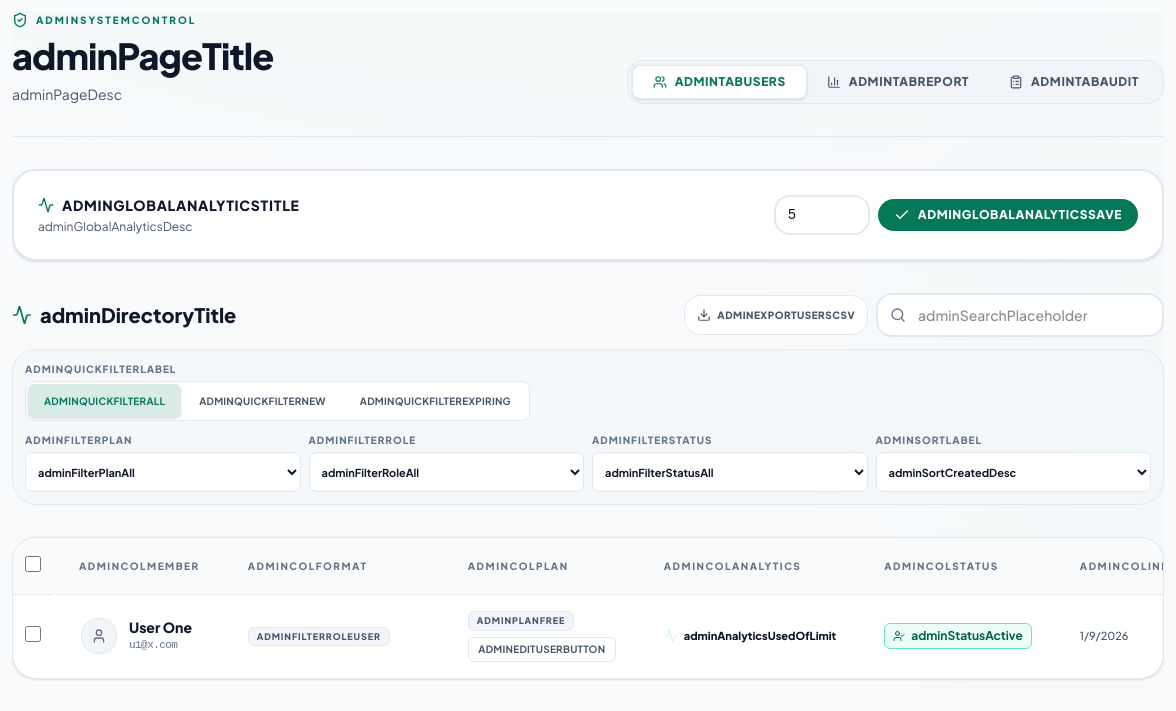
Test case: AdminView › surfaces each active filter as a chip and clears them all at once
Select "adminFilterPlanFree" in the dropdown labelled "adminFilterPlan" at {"x": 163, "y": 472}, box left=25, top=452, right=300, bottom=492
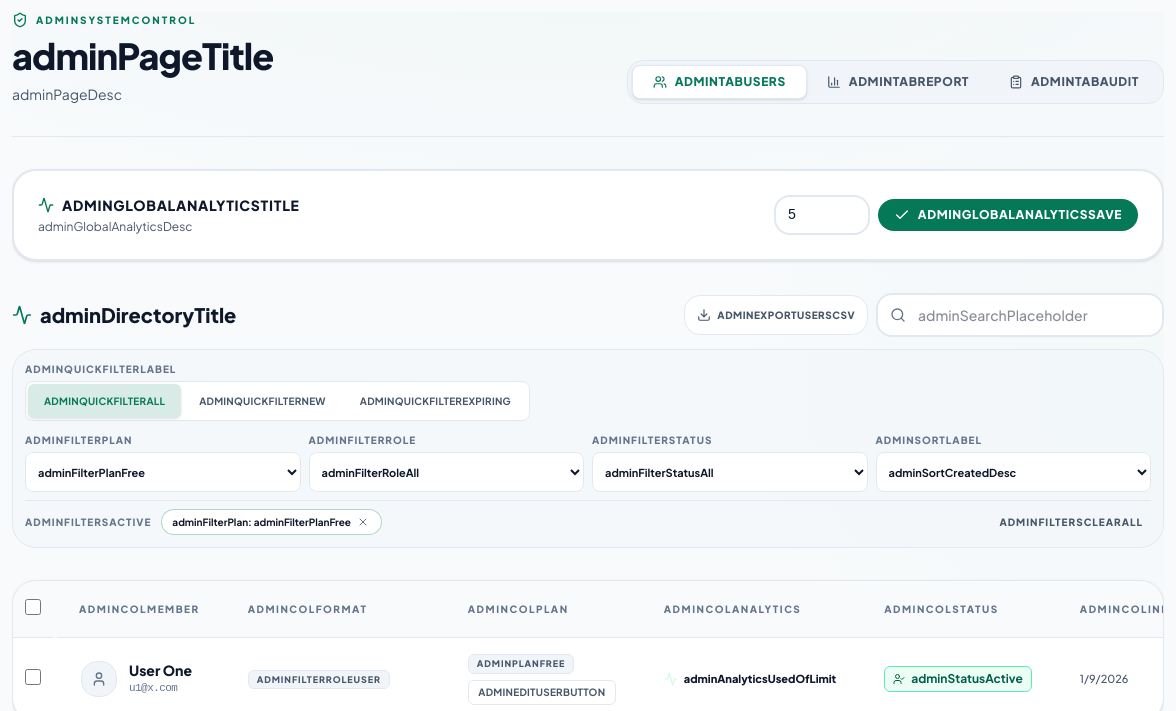
Now the text "adminFilterPlan: adminFilterPlanFree" is shown, box left=161, top=509, right=382, bottom=535
Select "adminFilterRoleAdmin" in the dropdown labelled "adminFilterRole" at {"x": 446, "y": 472}, box left=308, top=452, right=584, bottom=492
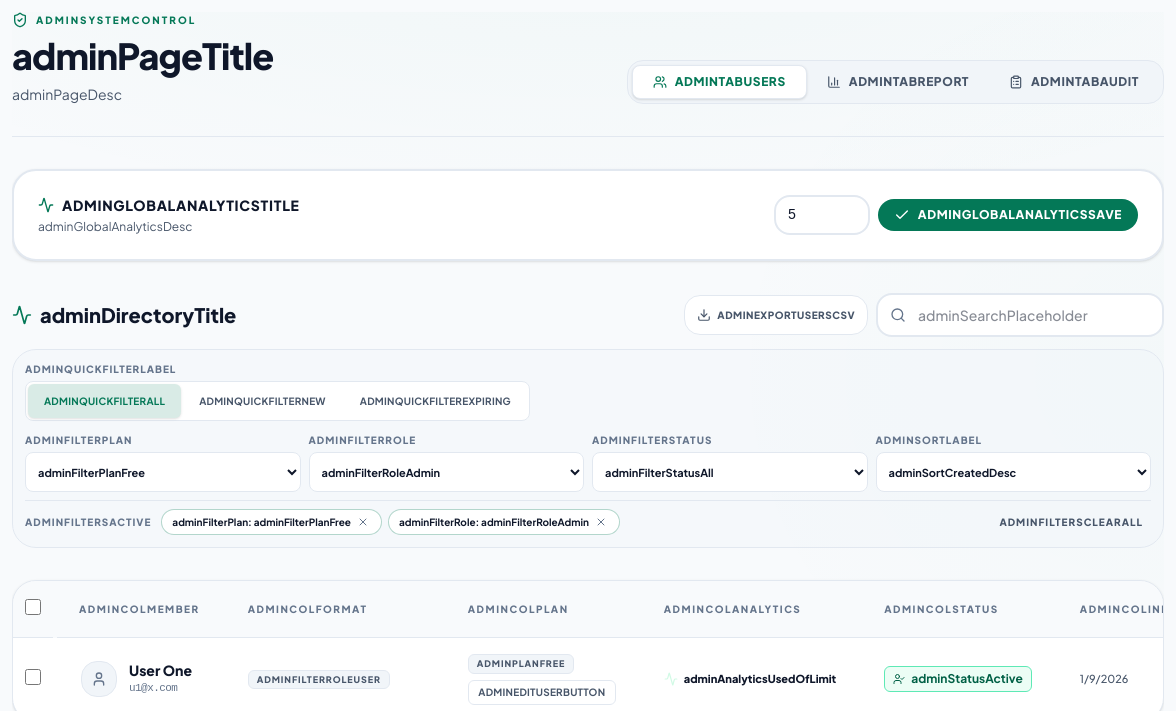
Now the text "adminFilterRole: adminFilterRoleAdmin" is shown, box left=388, top=509, right=620, bottom=535
Click the button "adminFiltersClearAll" at {"x": 1071, "y": 522}, box left=991, top=510, right=1151, bottom=534
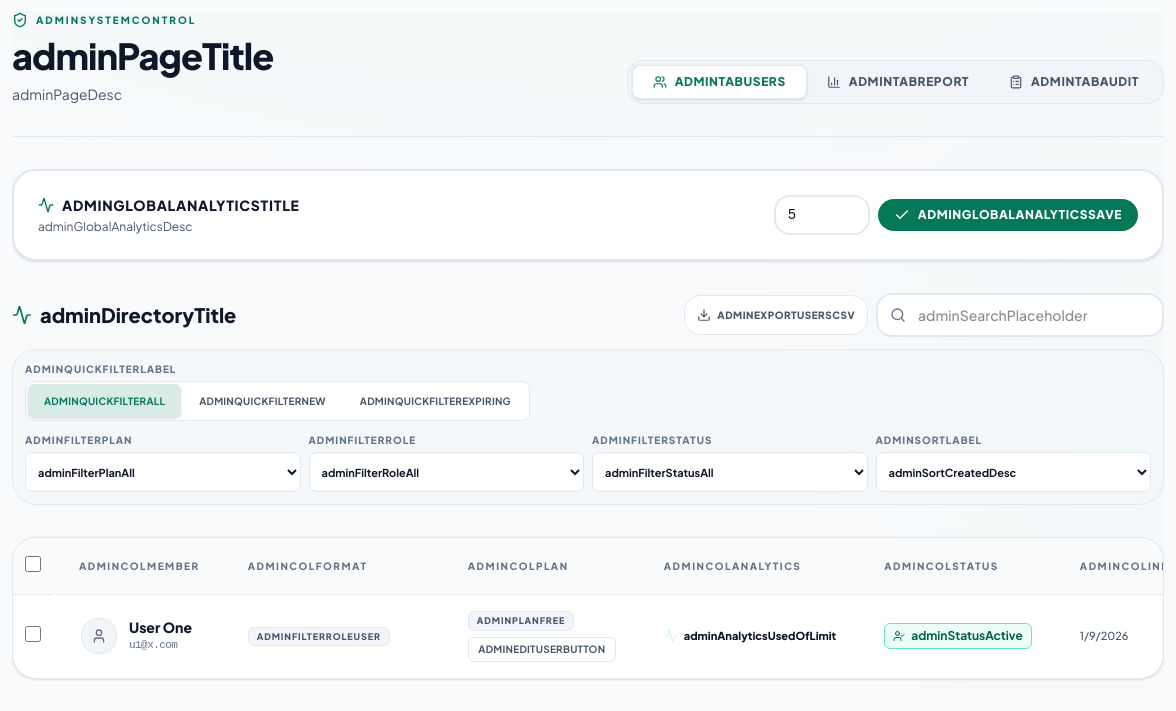
Now the text "adminFilterPlan: adminFilterPlanFree" is gone
Now the text "adminFilterRole: adminFilterRoleAdmin" is gone
